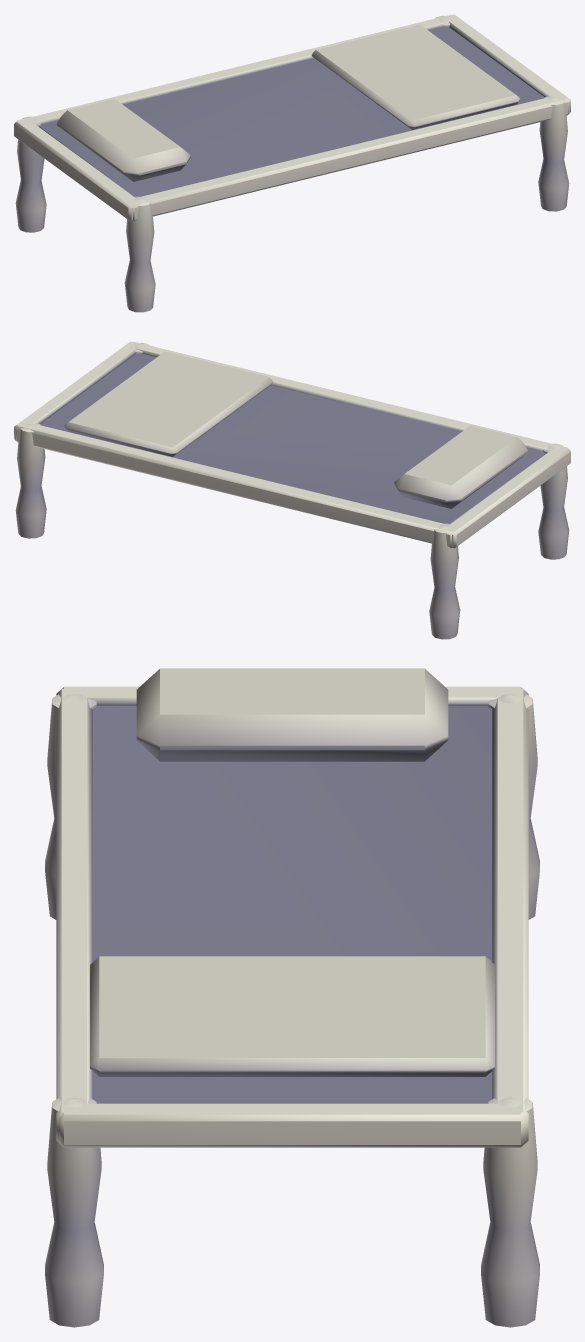
File: charpoy.glb
3 renders of one model, top to bottom at view 1: azimuth 30°, elevation 25°; view 2: azimuth 150°, elevation 25°; view 3: azimuth 270°, elevation 25°, orthographic. The views are drawn at different scales.
Parts seen in each view (by area): view 1: body; view 2: body; view 3: body.
Boxes of the visible parts, x1,y1,x2,y2 form: body: (14, 14, 570, 312); body: (14, 341, 570, 639); body: (45, 668, 539, 1327).
Bounding box in the file's own units: 1.97 × 0.55 × 0.9541.
